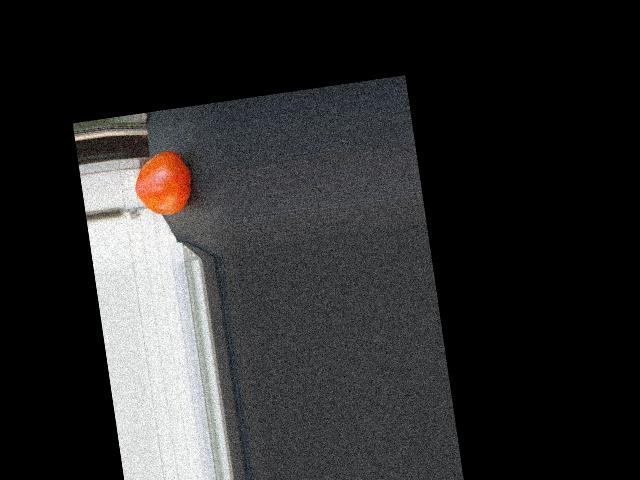tomato: (130, 148, 195, 219)
